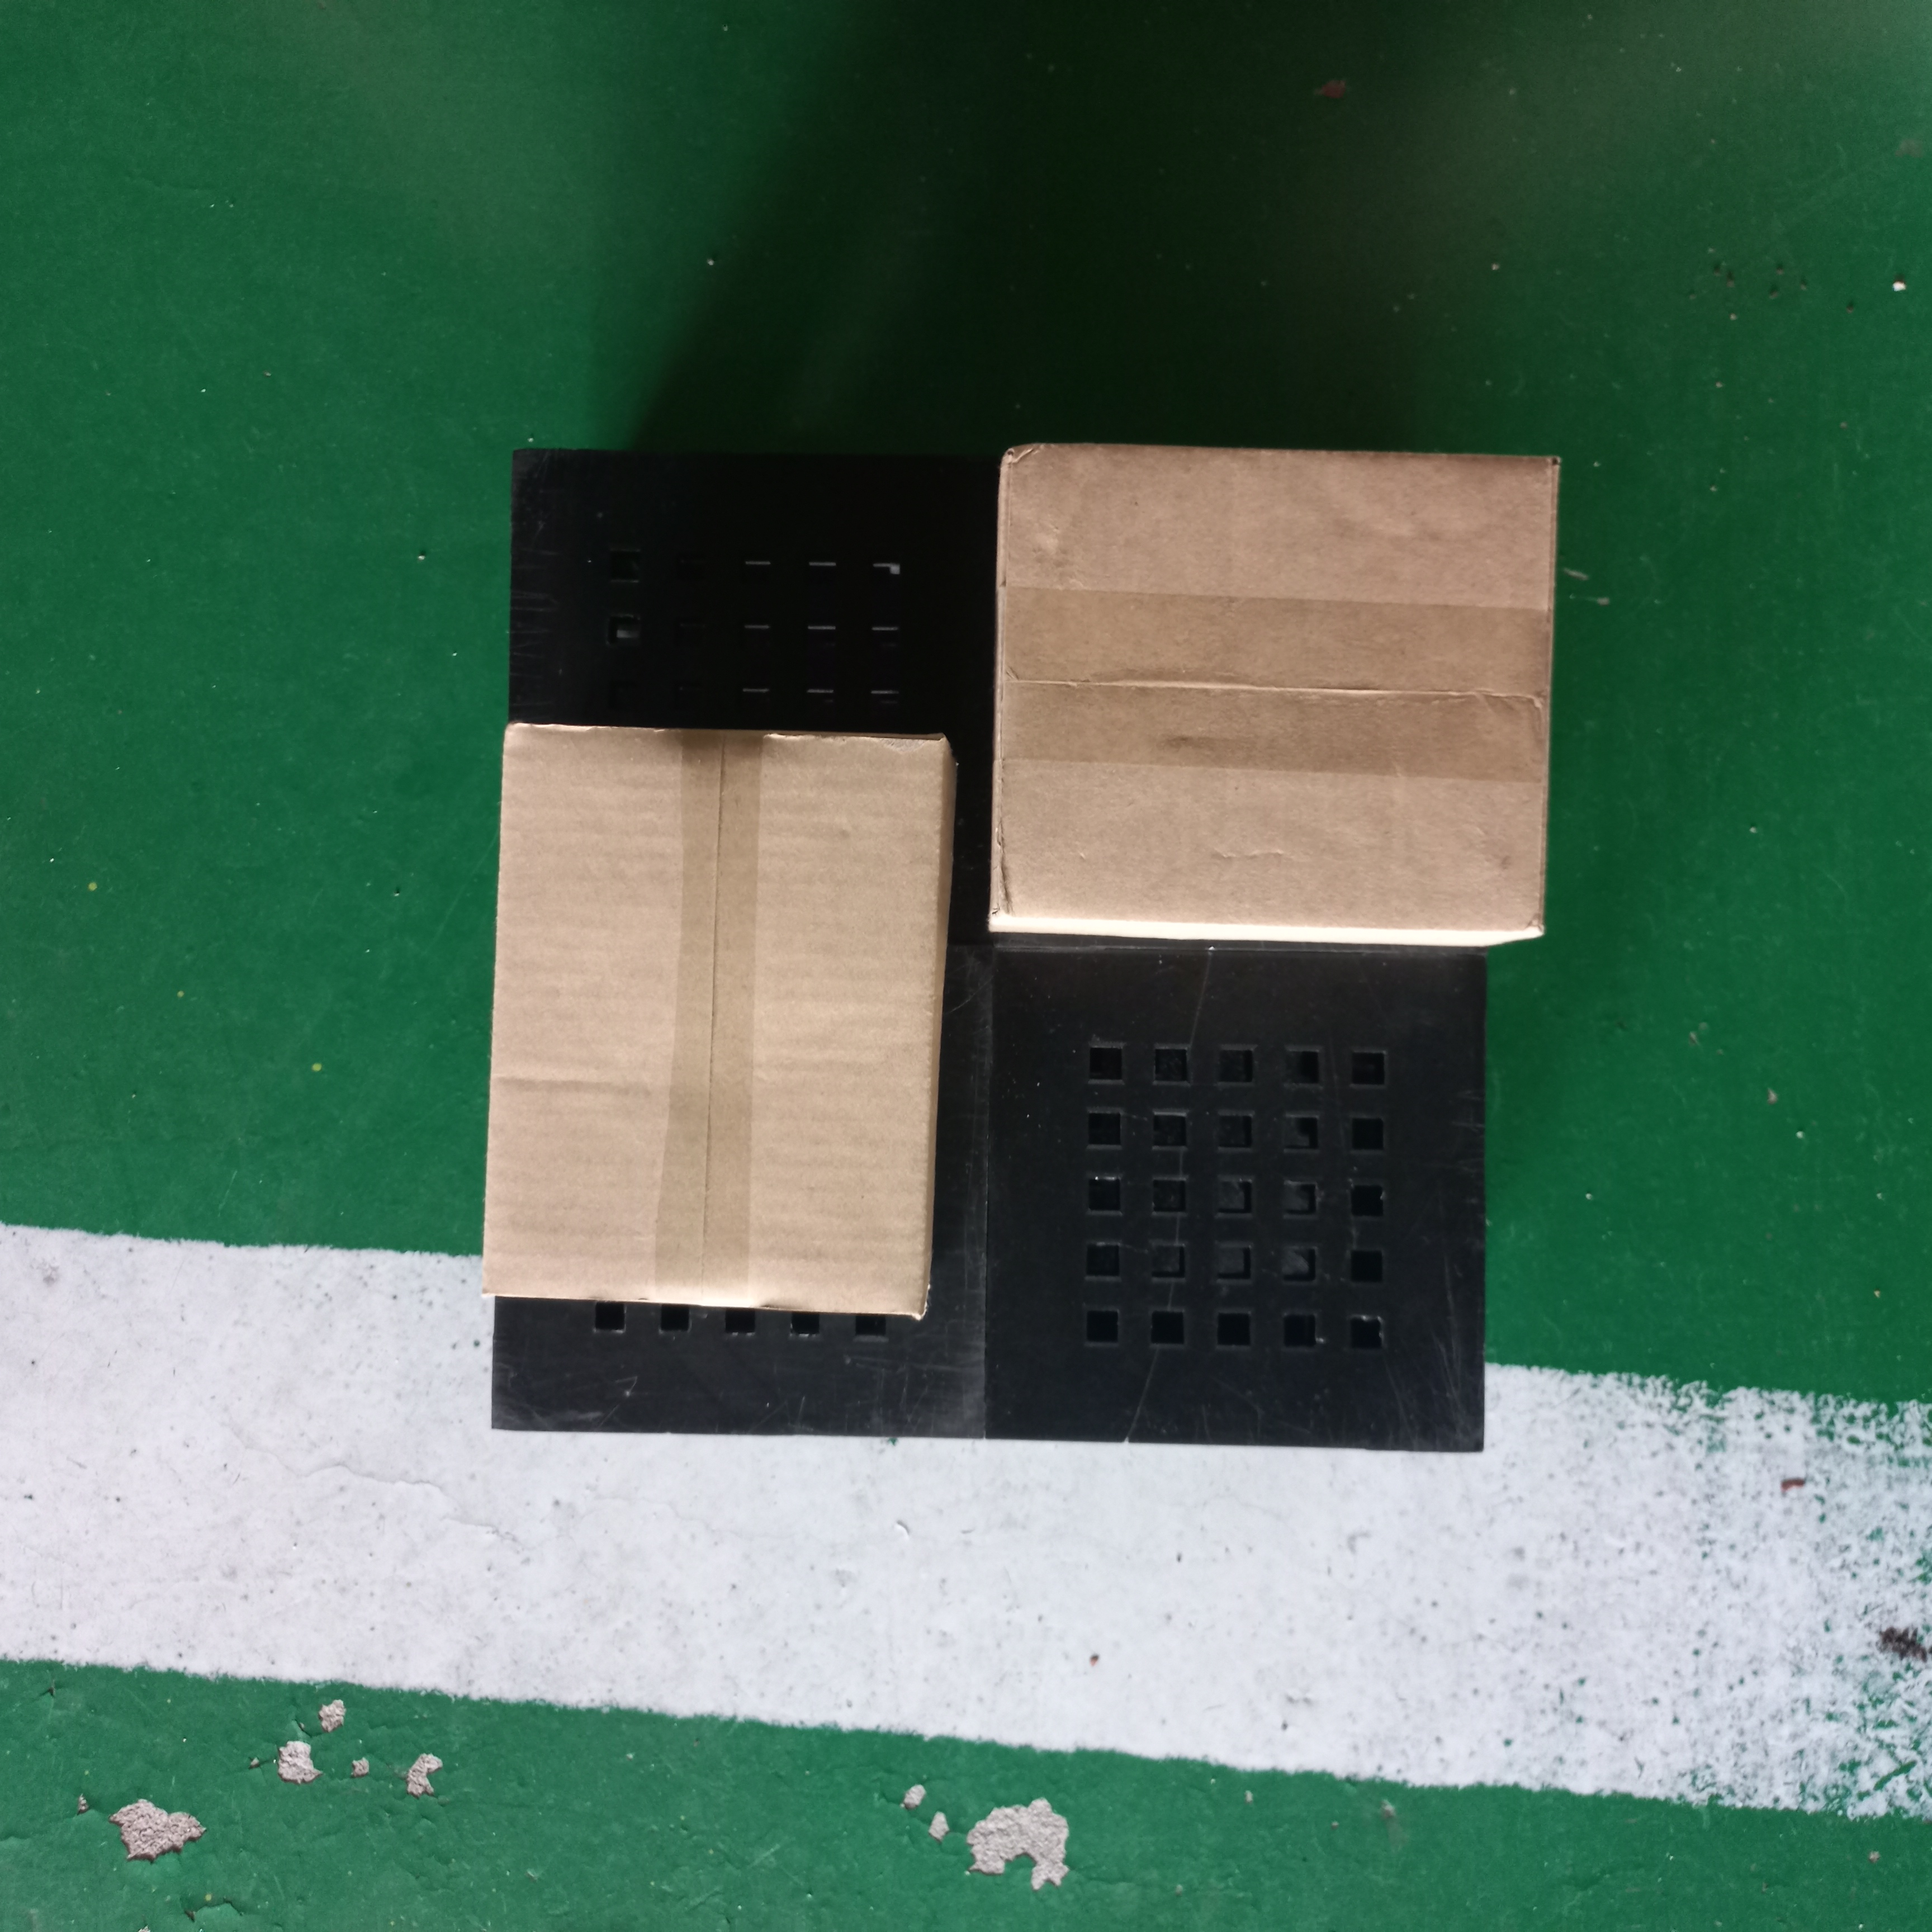box: (485, 713, 948, 1334), (989, 444, 1559, 947)
